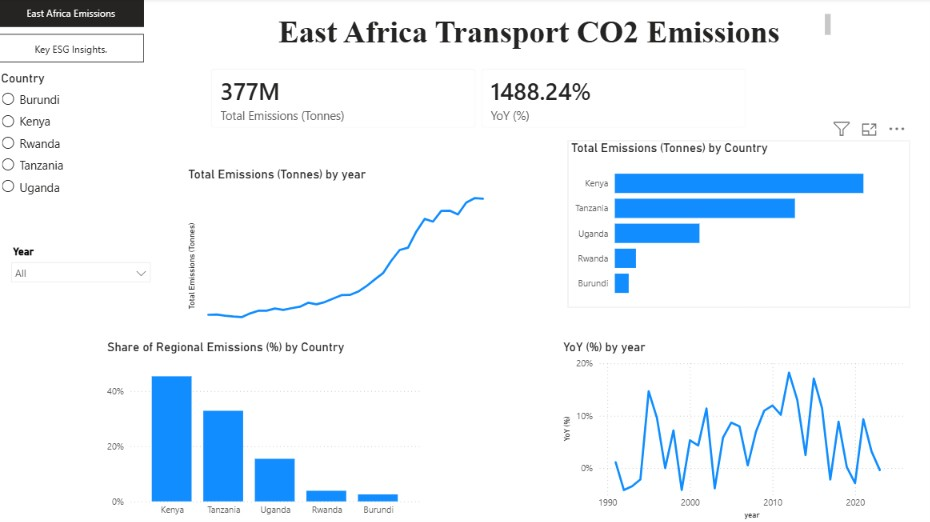

This screenshot's page, from the dashboard's own definition file:
{"tool":"powerbi","page":{"name":"East Africa Emissions","canvas":[1280,720],"ordinal":0},"visuals":[{"type":"cardVisual","fields":{"Data":["co2-emissions-transport.Total Emissions (Tonnes)","co2-emissions-transport.YoY (%)"]},"box":[275.8,79.6,768.4,115.3],"z":0},{"type":"listSlicer","fields":{"Values":["co2-emissions-transport.Country"]},"box":[0,98.8,227.8,192.1],"z":1000},{"type":"slicer","fields":{"Values":["co2-emissions-transport.year"]},"box":[8.2,333.4,211.3,90.6],"z":2000},{"type":"lineChart","fields":{"Y":["co2-emissions-transport.Total Emissions (Tonnes)"],"Category":["co2-emissions-transport.year"]},"box":[256.6,230.5,447.3,247],"z":3000},{"type":"clusteredBarChart","fields":{"Category":["co2-emissions-transport.Country"],"Y":["co2-emissions-transport.Total Emissions (Tonnes)"]},"box":[782.2,194.9,469.3,229.2],"z":4000},{"type":"lineChart","fields":{"Y":["co2-emissions-transport.YoY (%)"],"Category":["co2-emissions-transport.year"]},"box":[771.2,467.9,480.3,252.5],"z":5000},{"type":"clusteredColumnChart","fields":{"Y":["co2-emissions-transport.Share of Regional Emissions (%)"],"Category":["co2-emissions-transport.Country"]},"box":[145.5,467.9,439.1,252.5],"z":6000},{"type":"textbox","box":[318.4,16.5,830.2,63.1],"z":7000},{"type":"pageNavigator","box":[0,0,201.7,89.2],"z":8000}]}

Visuals, with their boxes on the page's 1280x720 design canvas (x1, y1, x2, y2). These are canvas units, not pixel positions in the 930x522 screenshot, which may show the page scaled, cropped or inside an application window:
cardVisual - co2-emissions-transport.Total Emissions (Tonnes) x co2-emissions-transport.YoY (%): l=276, t=80, r=1044, b=195
listSlicer - co2-emissions-transport.Country: l=0, t=99, r=228, b=291
slicer - co2-emissions-transport.year: l=8, t=333, r=220, b=424
lineChart - co2-emissions-transport.Total Emissions (Tonnes) x co2-emissions-transport.year: l=257, t=230, r=704, b=478
clusteredBarChart - co2-emissions-transport.Country x co2-emissions-transport.Total Emissions (Tonnes): l=782, t=195, r=1252, b=424
lineChart - co2-emissions-transport.YoY (%) x co2-emissions-transport.year: l=771, t=468, r=1252, b=720
clusteredColumnChart - co2-emissions-transport.Share of Regional Emissions (%) x co2-emissions-transport.Country: l=146, t=468, r=585, b=720
textbox: l=318, t=16, r=1149, b=80
pageNavigator: l=0, t=0, r=202, b=89
